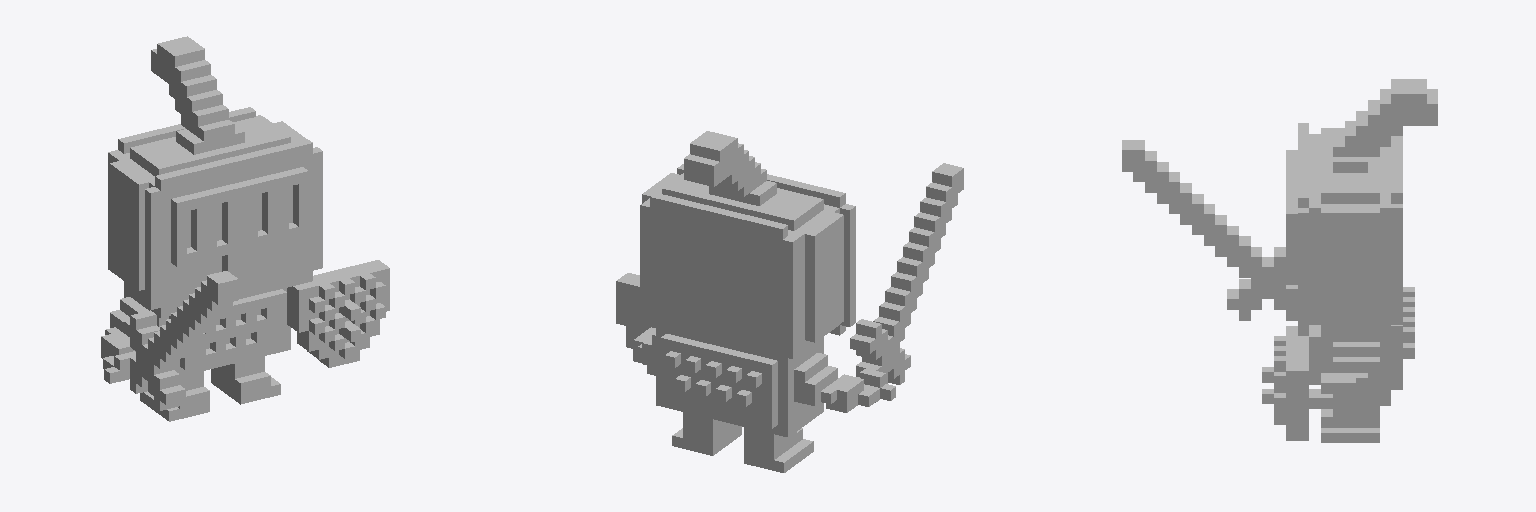
Rendered from knight1.obj.
3 views of the same model, side by side, from view 1: azimuth 30°, elevation 25°; view 2: azimuth 150°, elevation 25°; view 3: azimuth 270°, elevation 25° (orthographic).
Parts seen in each view (by area): view 1: object 1; view 2: object 1; view 3: object 1.
Boxes of the visible parts, <box> form: object 1: <box>101,36,389,421</box>; object 1: <box>616,131,963,472</box>; object 1: <box>1122,79,1437,442</box>.
Bounding box in the file's own units: 2.7 × 3.1 × 2.7.